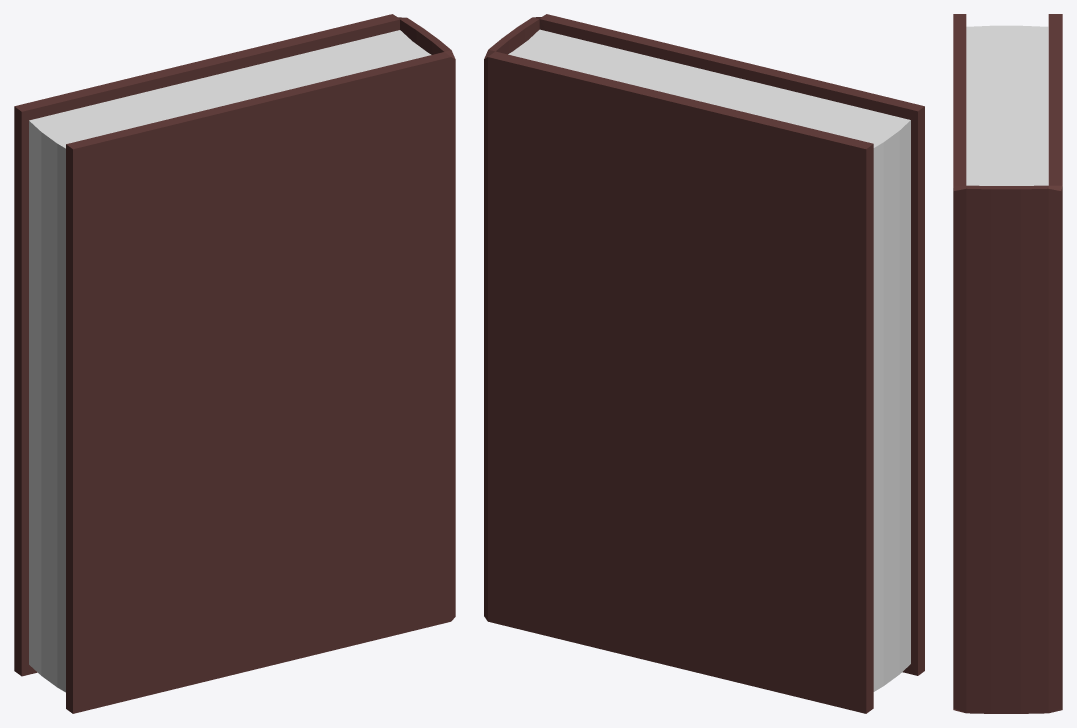
File: VJ_Llibre_Vermell.fbx
3 views of the same model, side by side, from view 1: azimuth 30°, elevation 25°; view 2: azimuth 150°, elevation 25°; view 3: azimuth 270°, elevation 25° (orthographic). The views are drawn at different scales.
Visible parts, largest first — view 1: Llibre_Vermell; view 2: Llibre_Vermell; view 3: Llibre_Vermell.
Part boxes in pixels (x1=…): Llibre_Vermell: x1=14, y1=14, x2=455, y2=713; Llibre_Vermell: x1=484, y1=14, x2=924, y2=713; Llibre_Vermell: x1=953, y1=14, x2=1062, y2=713.
Size of the model in its own units: 3.79 by 5.29 by 0.9977.
